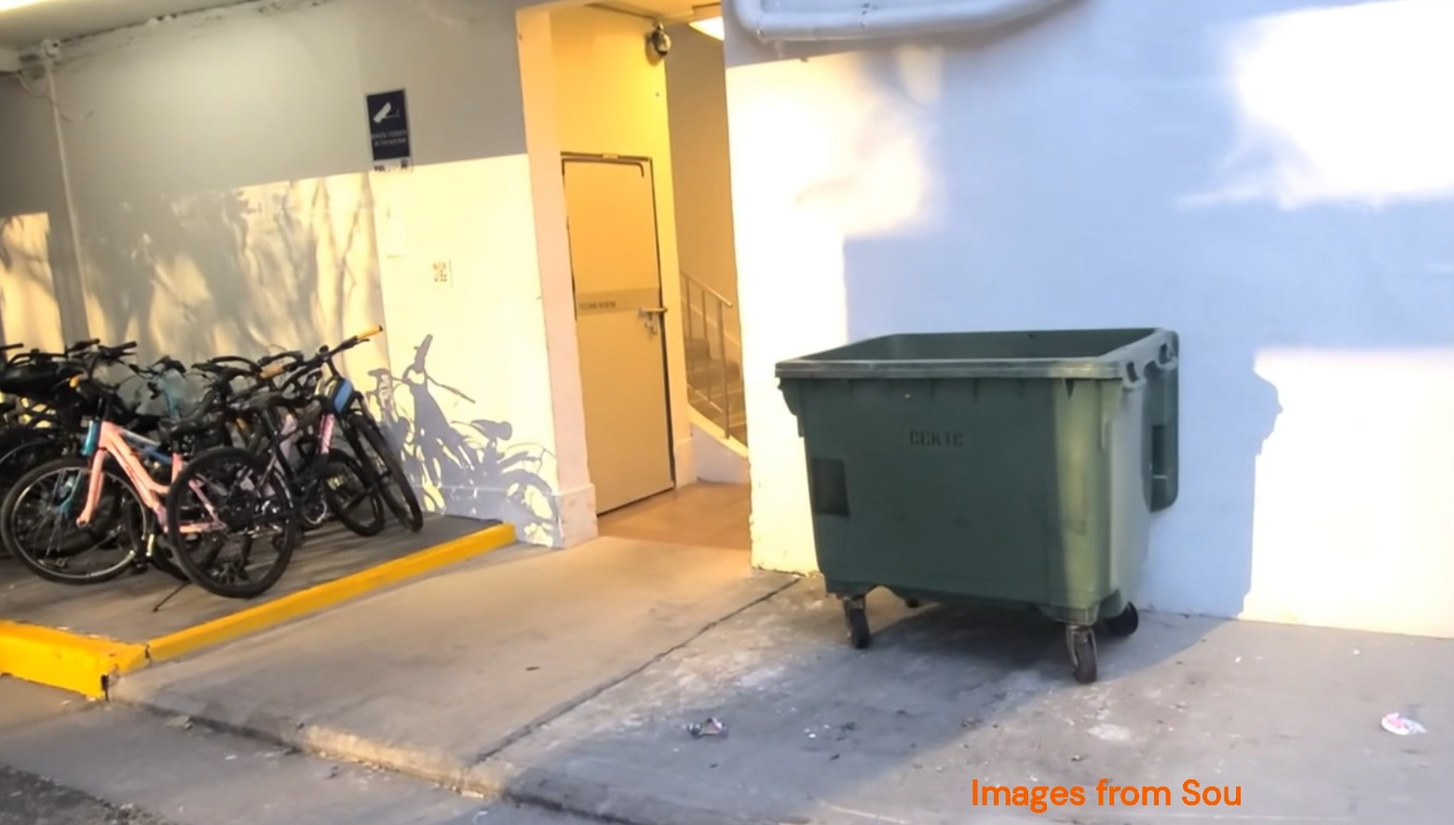bin_empty: (777, 329, 1176, 681)
